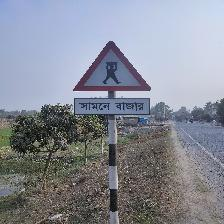Market-in-front: (72, 41, 151, 115)
